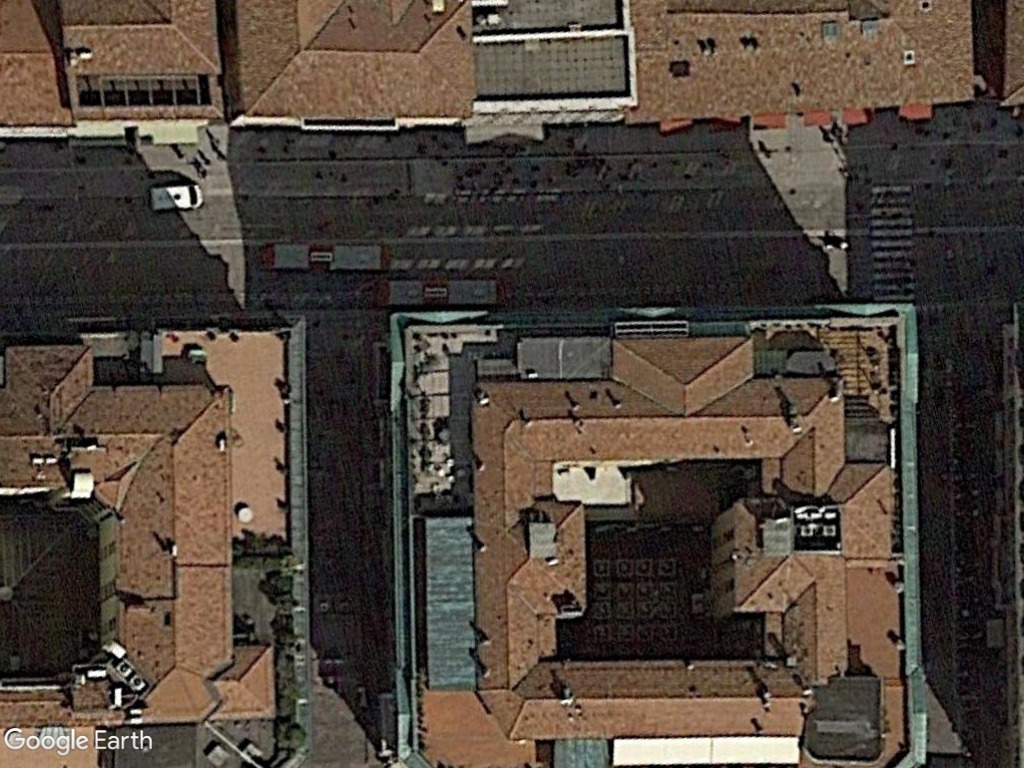bus: (256, 242, 395, 275), (366, 277, 506, 308)
van: (143, 182, 206, 213)
